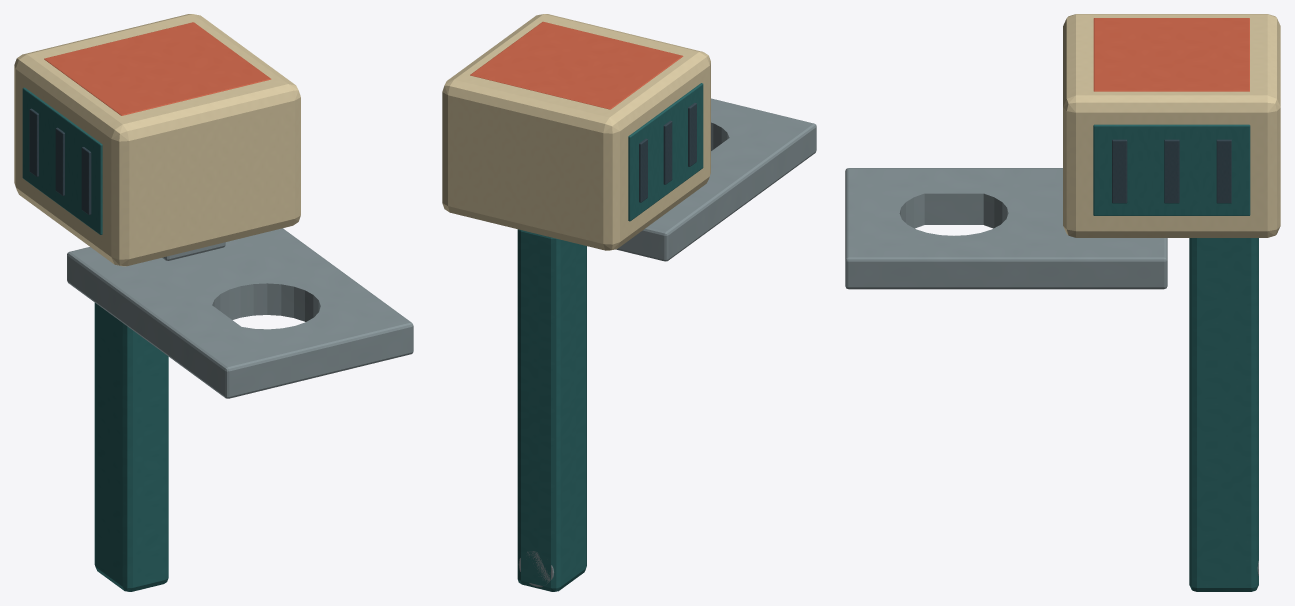
The model's file is engine-lod-0.glb.
3 views of the same model, side by side, from view 1: azimuth 30°, elevation 25°; view 2: azimuth 150°, elevation 25°; view 3: azimuth 270°, elevation 25° (orthographic). The views are drawn at different scales.
Parts seen in each view (by area): view 1: engine_lod_0; view 2: engine_lod_0; view 3: engine_lod_0.
Part boxes in pixels (left/top/right/bottom): engine_lod_0: left=14, top=14, right=413, bottom=591; engine_lod_0: left=442, top=14, right=816, bottom=591; engine_lod_0: left=845, top=14, right=1280, bottom=591.
Bounding box in the file's own units: 1.05 × 2.68 × 2.
Materials: 1 (1 with a texture image).
